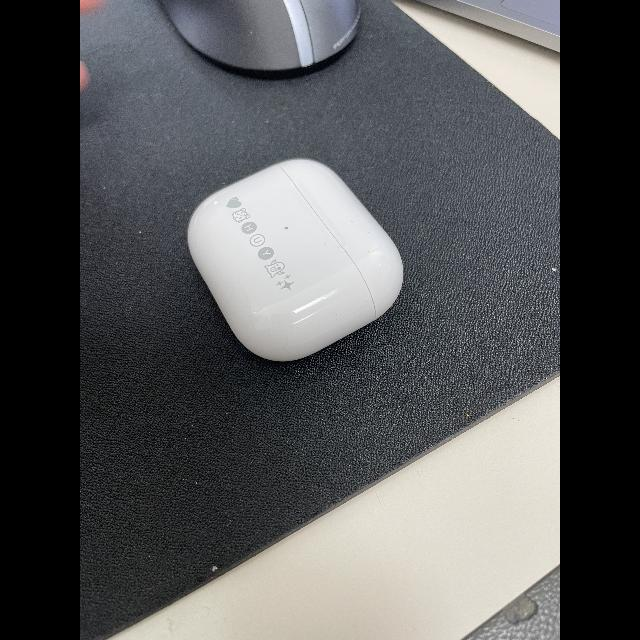airpod3: (172, 148, 420, 370)
